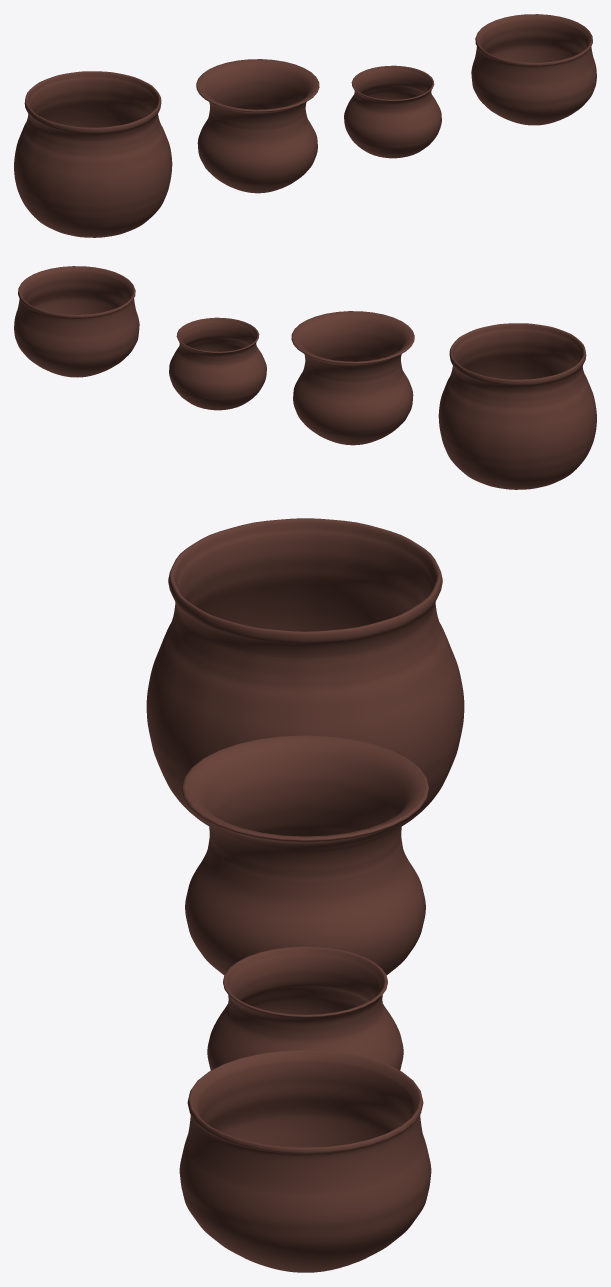
Rendered from vasos_pre-coloniais.fbx.
3 views of the same model, one above another, from view 1: azimuth 30°, elevation 25°; view 2: azimuth 150°, elevation 25°; view 3: azimuth 270°, elevation 25° (orthographic). The views are drawn at different scales.
Parts seen in each view (by area): view 1: node_id8, node_id11; view 2: node_id8, node_id11; view 3: node_id8, node_id11.
Boxes of the visible parts, <box> form: node_id8: <box>14,14,596,237</box>; node_id11: <box>59,65,441,158</box>; node_id8: <box>14,266,596,489</box>; node_id11: <box>169,317,559,410</box>; node_id8: <box>146,518,464,1272</box>; node_id11: <box>207,600,403,1070</box>.
Size of the model in its own units: 0.512 by 0.1095 by 0.1248.
